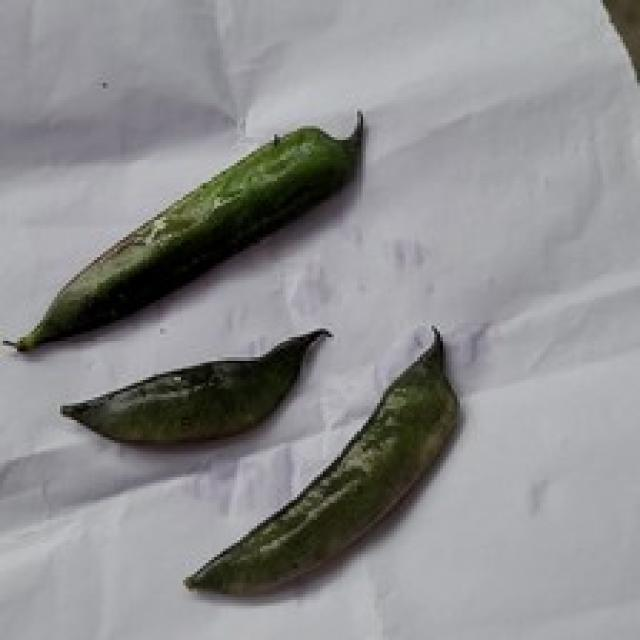Bean: (0, 106, 363, 351), (180, 323, 460, 597), (57, 326, 332, 446)
